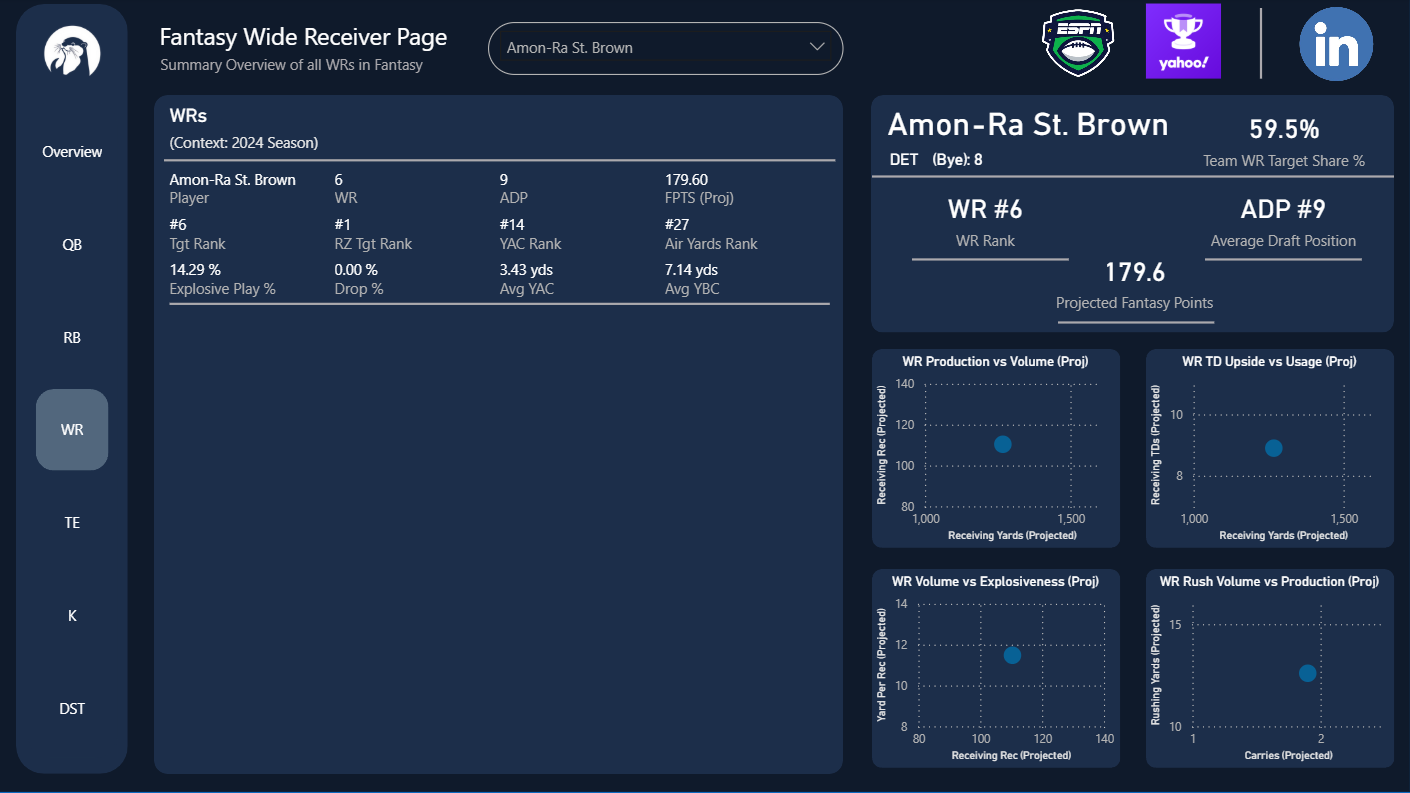

The page's visual inventory and layout, read from the dashboard file:
{"tool":"powerbi","page":{"name":"WR","canvas":[1280,720],"ordinal":3},"visuals":[{"type":"group","id":"g1","title":"Group 15","box":[0,0,1279.7,720],"z":0},{"type":"shape","box":[0,0,1279.7,720],"z":0,"group":"g1"},{"type":"shape","box":[141.3,87.8,624,614.9],"z":0,"group":"g6"},{"type":"shape","box":[16.3,5.4,101.4,697.4],"z":1000,"group":"g3"},{"type":"slicer","fields":{"Values":["all_player_data.Player"]},"box":[443.5,21.7,321.8,48],"z":1000,"group":"g5"},{"type":"pageNavigator","box":[26.8,95.1,80.5,594.1],"z":1000,"group":"g4"},{"type":"shape","box":[1039.7,317.9,225,180.2],"z":1000},{"type":"group","id":"g2","title":"Group 13","box":[141.3,0,1053.3,82.4],"z":1500,"group":"g11"},{"type":"group","id":"g3","title":"Group 5","box":[16.3,5.4,101.4,697.4],"z":2000,"group":"g11"},{"type":"shape","box":[790.7,87.8,473.7,215.4],"z":2000,"group":"g6"},{"type":"group","id":"g4","title":"Group 1","box":[26.8,95.1,80.5,594.1],"z":2000,"group":"g7"},{"type":"shape","box":[1039.7,517,225,180.2],"z":2000},{"type":"cardVisual","fields":{"Data":["full_wr_data.WR_Bye_Label"]},"box":[829.5,129.4,99,31.7],"z":3000,"group":"g6"},{"type":"shape","box":[791.5,317.9,225,180.2],"z":3000},{"type":"cardVisual","fields":{"Data":["full_wr_data.Selected_WR"]},"box":[790.7,87.8,473.7,48],"z":4000,"group":"g6"},{"type":"shape","box":[791.5,517.1,225,180.2],"z":4000},{"type":"group","id":"g5","title":"Group 9","box":[141.3,14.5,624,63.4],"z":5000,"group":"g2"},{"type":"textbox","box":[141.3,14.5,283.4,40.8],"z":5000,"group":"g5"},{"type":"group","id":"g6","title":"Group 2","box":[141.3,87.8,1123.3,614.9],"z":5000},{"type":"shape","box":[960,279.8,141.5,28.1],"z":5000,"group":"g6"},{"type":"image","box":[937.4,0,81.5,82.4],"z":5001,"group":"g10"},{"type":"image","box":[1030.7,0,86.9,77.9],"z":5003,"group":"g9"},{"type":"textbox","box":[142,46.2,283.4,31.7],"z":6000,"group":"g5"},{"type":"multiRowCard","title":"WRs","fields":{"Values":["full_wr_data.Player","full_wr_data.WR","full_wr_data.Overall","full_wr_data.MISC FPTS (Projected)","full_wr_data.Rank_Total_Tgt_Label","full_wr_data.Rank_Total_RZ_Tgt_Label","full_wr_data.Rank_Total_YAC_Label","full_wr_data.Rank_Total_Air_Label","full_wr_data.WR_Explosive_Label","full_wr_data.WR_Drop_Label","full_wr_data.WR_YAC_Avg_Label","full_wr_data.WR_YBCON_Avg_Label"]},"box":[150,96,608,601],"z":6000},{"type":"cardVisual","fields":{"Data":["full_wr_data.WR_Team_Label"]},"box":[790.7,129.4,60.1,31.7],"z":6000,"group":"g6"},{"type":"shape","box":[791.9,146,472.8,31.7],"z":7000,"group":"g6"},{"type":"scatterChart","title":"WR Production vs Volume (Proj)","fields":{"X":["full_wr_data.RECEIVING YDS (Projected)"],"Y":["full_wr_data.RECEIVING REC (Projected)"],"Size":["Sum(full_wr_data.RECEIVING TDS (Projected))"],"Series":["full_wr_data.Team"]},"box":[791,322,225,175],"z":7000},{"type":"image","box":[25.2,5.4,83.7,89.7],"z":8000,"group":"g7"},{"type":"shape","box":[828.2,222.5,142,28],"z":8000,"group":"g6"},{"type":"scatterChart","title":"WR TD Upside vs Usage (Proj)","fields":{"X":["full_wr_data.RECEIVING YDS (Projected)"],"Y":["Sum(full_wr_data.RECEIVING TDS (Projected))"],"Size":["Sum(full_wr_data.RECEIVING REC (Projected))"],"Series":["full_wr_data.Team"]},"box":[1039,322,225,175],"z":8000},{"type":"shape","box":[1092.8,222.5,142,28],"z":9000,"group":"g6"},{"type":"scatterChart","title":"WR Volume vs Explosiveness (Proj)","fields":{"Size":["Sum(full_wr_data.RECEIVING TDS (Projected))"],"Y":["Sum(full_wr_data.Projected_Yard_per_Rec)"],"X":["full_wr_data.RECEIVING REC (Projected)"],"Series":["full_wr_data.Team"]},"box":[791,522,225,175],"z":9000},{"type":"scatterChart","title":"WR Rush Volume vs Production (Proj)","fields":{"X":["full_wr_data.RUSHING ATT (Projected)"],"Size":["Sum(full_wr_data.RUSHING TDS (Projected))"],"Y":["full_wr_data.RUSHING YDS (Projected)"],"Series":["full_wr_data.Team"]},"box":[1039,522,225,175],"z":10000},{"type":"image","box":[1164.7,2.7,95.1,77.9],"z":11000},{"type":"shape","box":[1093.2,9.1,101.4,64.3],"z":11000,"group":"g8"},{"type":"group","id":"g7","title":"Group 4","box":[25.2,5.4,83.7,683.8],"z":11001,"group":"g3"},{"type":"group","id":"g8","title":"Group 10","box":[1093.2,9.1,101.4,64.3],"z":11001,"group":"g9"},{"type":"group","id":"g9","title":"Group 11","box":[1030.7,0,163.9,77.9],"z":11002,"group":"g10"},{"type":"group","id":"g10","title":"Group 12","box":[937.4,0,257.2,82.4],"z":11003,"group":"g2"},{"type":"group","id":"g11","title":"Group 14","box":[16.3,0,1178.3,702.8],"z":11005,"group":"g1"},{"type":"card","fields":{"Values":["full_wr_data.Player_WR__Rank_Label"]},"box":[790,166,209,70.6],"z":12000},{"type":"card","fields":{"Values":["full_wr_data.WR_ADP_Label"]},"box":[1093.1,166,142,70.6],"z":13000},{"type":"card","fields":{"Values":["full_wr_data.WR_Fantasy_Point_Total"]},"box":[927,225,204,66],"z":14000},{"type":"card","fields":{"Values":["full_wr_data.WR_Target_Share_Label"]},"box":[1082.3,96,164.8,65.2],"z":15000}]}

Visuals, with their boxes in screenshot pixels (x1, y1, x2, y2), scaled from the page's 1280x720 canvas onto the 1410x793 screenshot:
"Group 15" group: (x1=0, y1=0, x2=1409, y2=792)
shape: (x1=0, y1=0, x2=1409, y2=792)
shape: (x1=156, y1=97, x2=843, y2=774)
shape: (x1=18, y1=6, x2=130, y2=774)
slicer - all_player_data.Player: (x1=489, y1=24, x2=843, y2=77)
pageNavigator: (x1=30, y1=105, x2=118, y2=759)
shape: (x1=1145, y1=350, x2=1393, y2=549)
"Group 13" group: (x1=156, y1=0, x2=1316, y2=91)
"Group 5" group: (x1=18, y1=6, x2=130, y2=774)
shape: (x1=871, y1=97, x2=1393, y2=334)
"Group 1" group: (x1=30, y1=105, x2=118, y2=759)
shape: (x1=1145, y1=569, x2=1393, y2=768)
cardVisual - full_wr_data.WR_Bye_Label: (x1=914, y1=143, x2=1023, y2=177)
shape: (x1=872, y1=350, x2=1120, y2=549)
cardVisual - full_wr_data.Selected_WR: (x1=871, y1=97, x2=1393, y2=150)
shape: (x1=872, y1=570, x2=1120, y2=768)
"Group 9" group: (x1=156, y1=16, x2=843, y2=86)
textbox: (x1=156, y1=16, x2=468, y2=61)
"Group 2" group: (x1=156, y1=97, x2=1393, y2=774)
shape: (x1=1058, y1=308, x2=1213, y2=339)
image: (x1=1033, y1=0, x2=1122, y2=91)
image: (x1=1135, y1=0, x2=1231, y2=86)
textbox: (x1=156, y1=51, x2=469, y2=86)
"WRs" multiRowCard: (x1=165, y1=106, x2=835, y2=768)
cardVisual - full_wr_data.WR_Team_Label: (x1=871, y1=143, x2=937, y2=177)
shape: (x1=872, y1=161, x2=1393, y2=196)
"WR Production vs Volume (Proj)" scatterChart: (x1=871, y1=355, x2=1119, y2=547)
image: (x1=28, y1=6, x2=120, y2=105)
shape: (x1=912, y1=245, x2=1069, y2=276)
"WR TD Upside vs Usage (Proj)" scatterChart: (x1=1145, y1=355, x2=1392, y2=547)
shape: (x1=1204, y1=245, x2=1360, y2=276)
"WR Volume vs Explosiveness (Proj)" scatterChart: (x1=871, y1=575, x2=1119, y2=768)
"WR Rush Volume vs Production (Proj)" scatterChart: (x1=1145, y1=575, x2=1392, y2=768)
image: (x1=1283, y1=3, x2=1388, y2=89)
shape: (x1=1204, y1=10, x2=1316, y2=81)
"Group 4" group: (x1=28, y1=6, x2=120, y2=759)
"Group 10" group: (x1=1204, y1=10, x2=1316, y2=81)
"Group 11" group: (x1=1135, y1=0, x2=1316, y2=86)
"Group 12" group: (x1=1033, y1=0, x2=1316, y2=91)
"Group 14" group: (x1=18, y1=0, x2=1316, y2=774)
card - full_wr_data.Player_WR__Rank_Label: (x1=870, y1=183, x2=1100, y2=261)
card - full_wr_data.WR_ADP_Label: (x1=1204, y1=183, x2=1361, y2=261)
card - full_wr_data.WR_Fantasy_Point_Total: (x1=1021, y1=248, x2=1246, y2=321)
card - full_wr_data.WR_Target_Share_Label: (x1=1192, y1=106, x2=1374, y2=178)
